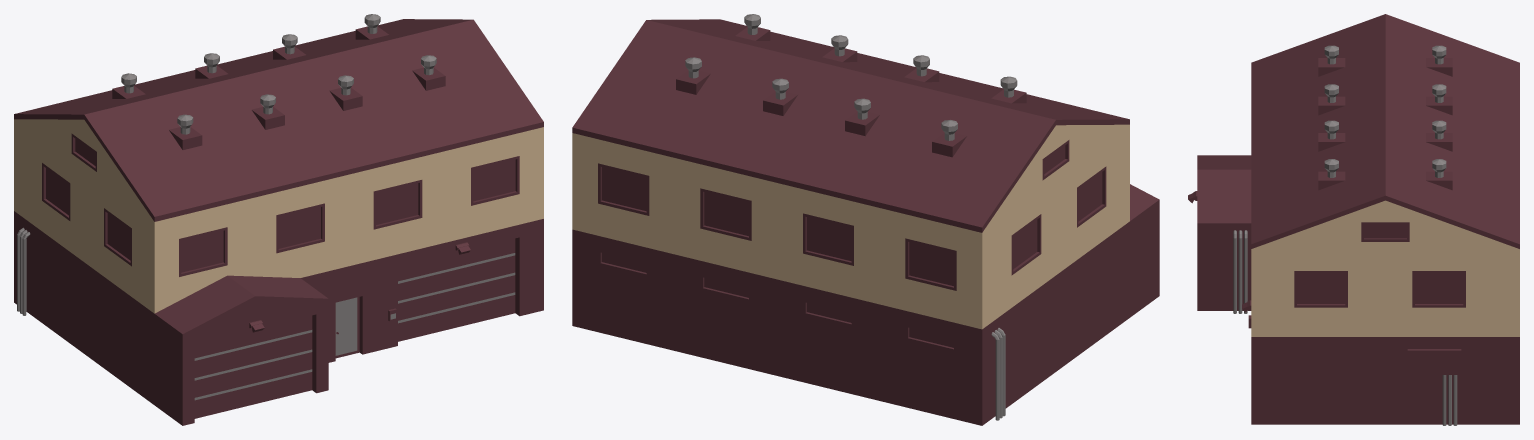
File: industry-building.fbx
The picture shows the model from 3 angles, left to right: view 1: azimuth 30°, elevation 25°; view 2: azimuth 150°, elevation 25°; view 3: azimuth 270°, elevation 25°; orthographic projection. The views are drawn at different scales.
Visible parts, largest first — view 1: industry-building; view 2: industry-building; view 3: industry-building.
Boxes of the visible parts, x1,y1,x2,y2 form: industry-building: (14, 14, 543, 425); industry-building: (572, 14, 1159, 425); industry-building: (1188, 14, 1519, 425).
Size of the model in its own units: 16.41 by 9.49 by 12.35.
